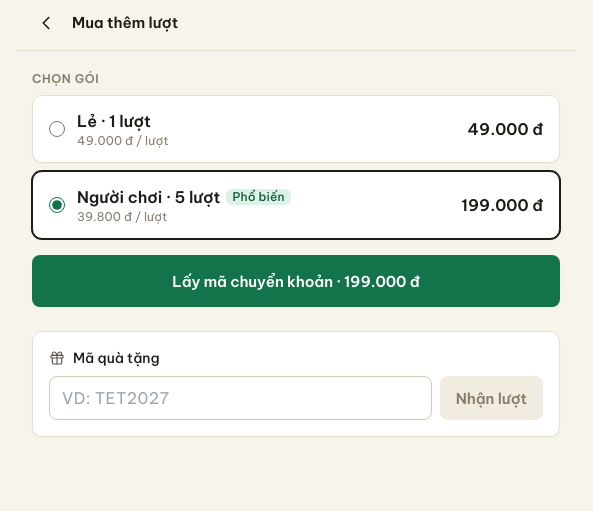
it: Buy › creates a VietQR payment and credits when paid
Click the button "Lấy mã chuyển khoản · 199.000 đ": coordinates (296, 281) [32,255,560,307]
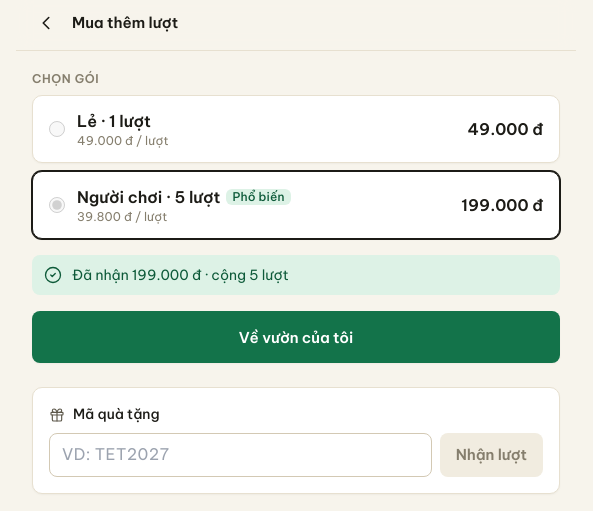
Now the text "Đã nhận 199.000 đ · cộng 5 lượt" is shown, box [72,266,289,284]
